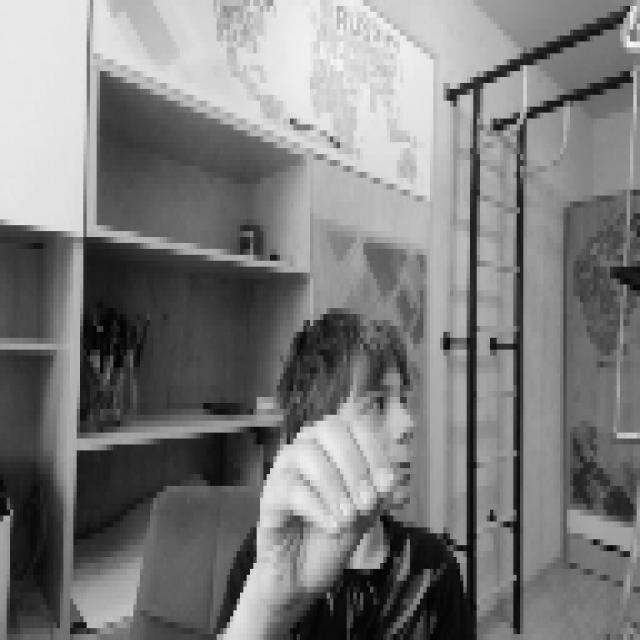left_click: (250, 409, 393, 598)
